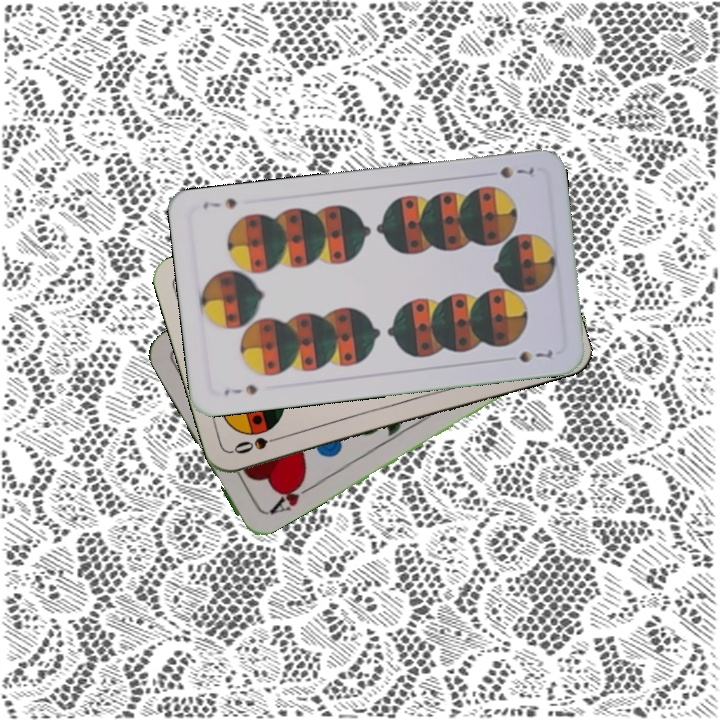HA: (265, 474, 317, 517)
S7: (495, 162, 538, 181), (220, 380, 260, 399)
SO: (229, 431, 288, 457)
